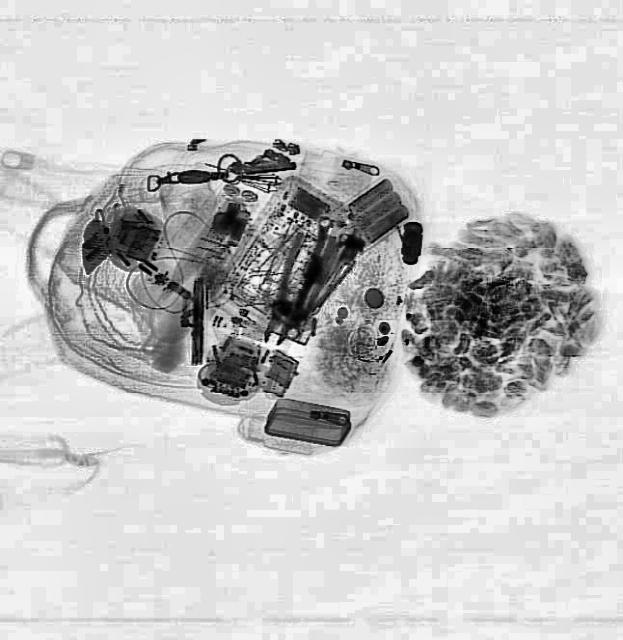Pliers: (241, 228, 355, 358)
Wrench: (280, 214, 334, 338)
